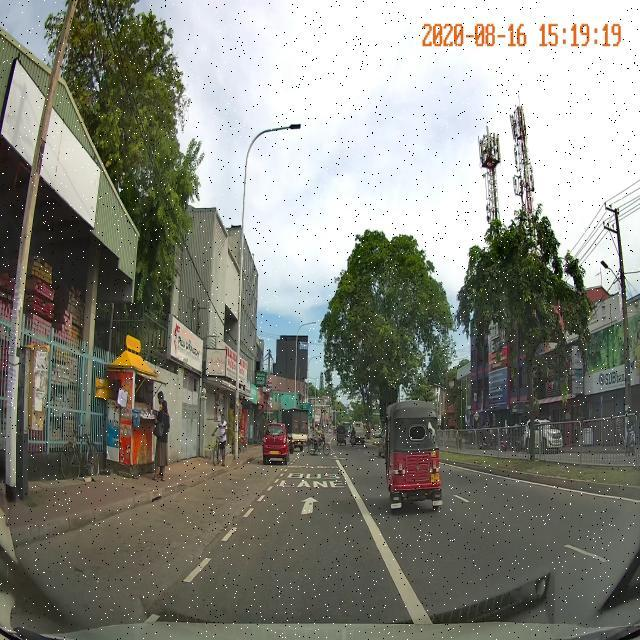forward: (243, 495, 375, 522)
